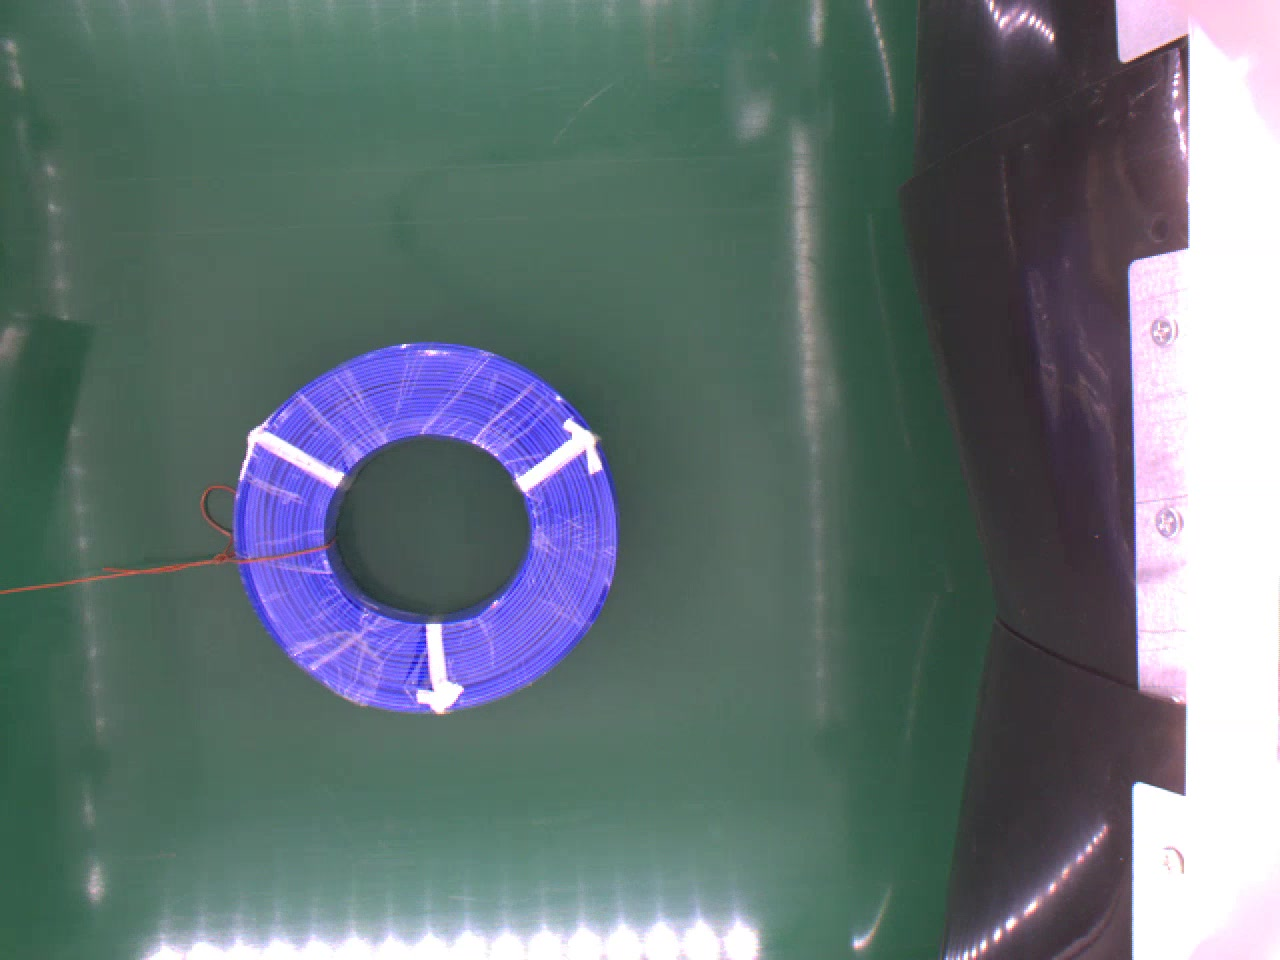blue: (227, 335, 622, 715)
